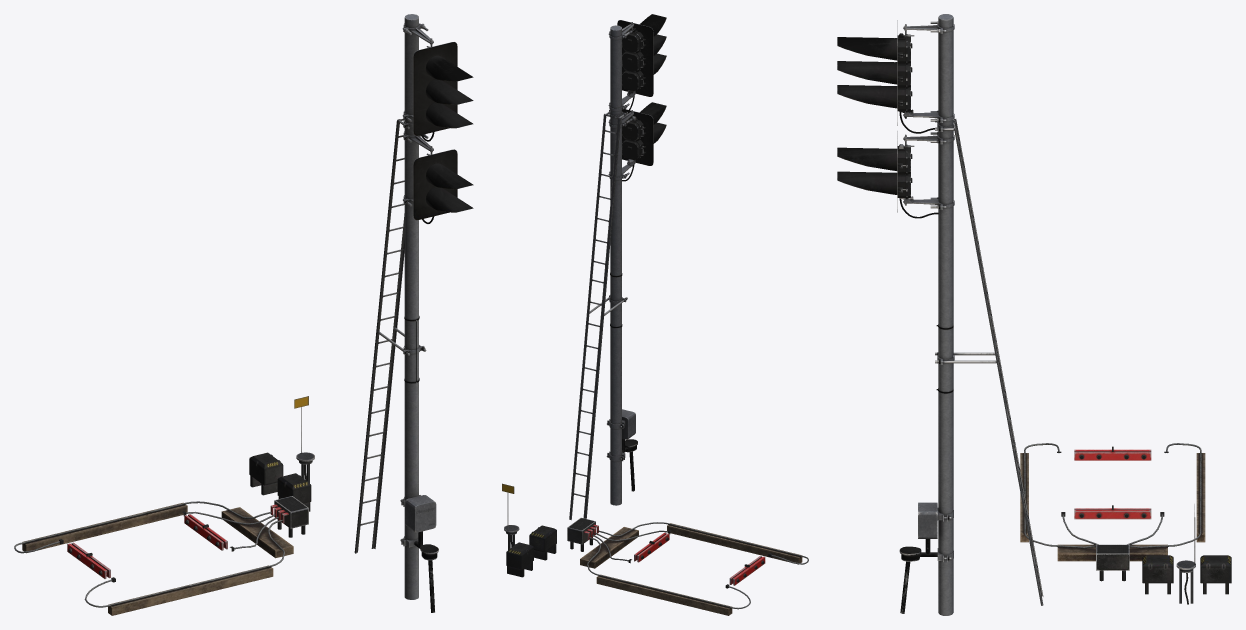
File: RM_sig_P_MM1_3+2_exit.gltf
3 views of the same model, side by side, from view 1: azimuth 30°, elevation 25°; view 2: azimuth 150°, elevation 25°; view 3: azimuth 270°, elevation 25° (orthographic). The views are drawn at different scales.
Visible parts, largest first — view 1: Светофор маршрутный, Изостык; view 2: Светофор маршрутный, Изостык; view 3: Светофор маршрутный, Изостык.
Part boxes in pixels (x1,y1,x2,y2): Светофор маршрутный: (354,14,473,612); Изостык: (14,396,314,615); Светофор маршрутный: (569,14,666,520); Изостык: (502,483,808,615); Светофор маршрутный: (837,14,1043,615); Изостык: (1020,443,1231,604).
Bounding box in the file's own units: 4.1 × 7.57 × 4.54.
3 materials, 2 textured.
